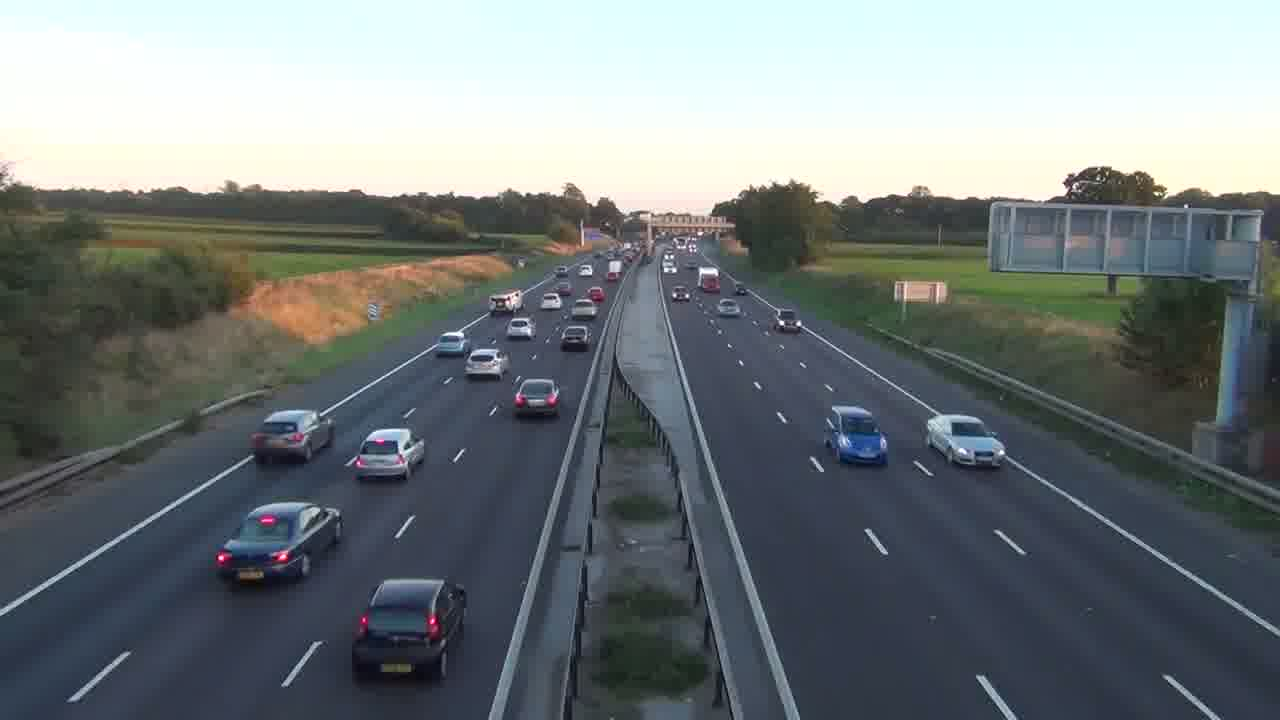car: (351, 576, 468, 679), (213, 499, 344, 586), (248, 408, 336, 464), (925, 413, 1007, 469), (346, 427, 426, 482), (823, 404, 889, 467), (512, 376, 561, 420), (464, 347, 508, 381), (506, 316, 535, 340)
